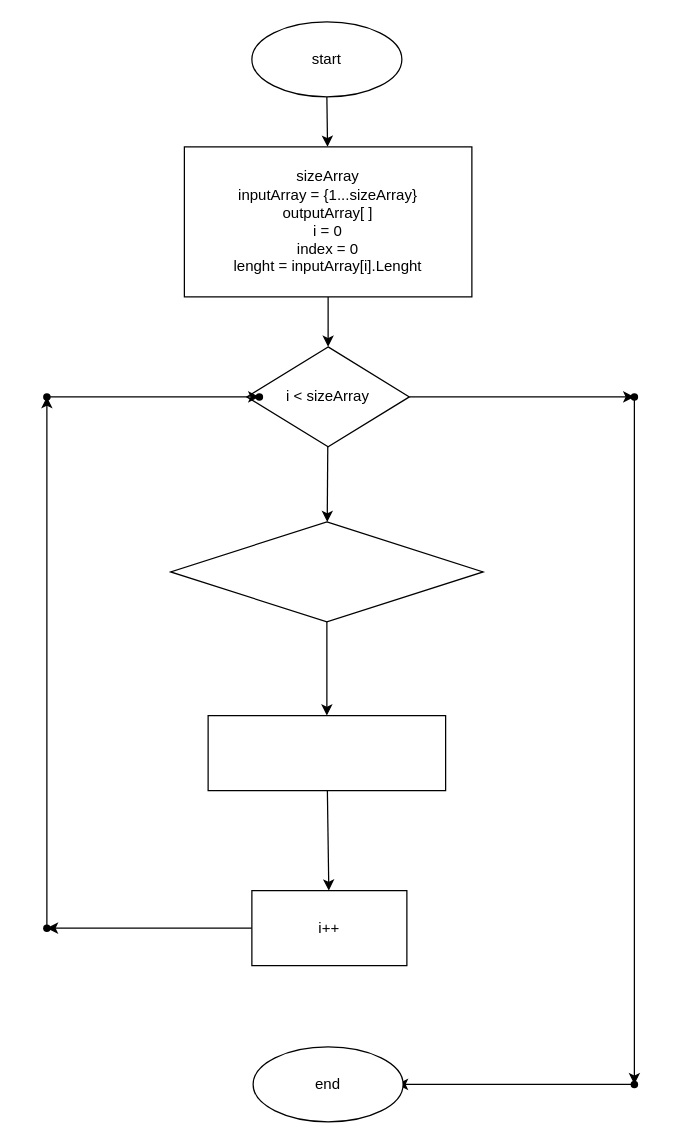
Image size: 681x1144. Some labels were removed from this diagram. Each missing label, with the centre of its shape:
"inputArray[i].Lenght <= 3" goes at (326,571).
"outputArray[index] = inputArray[i] index++;" goes at (326,752).
